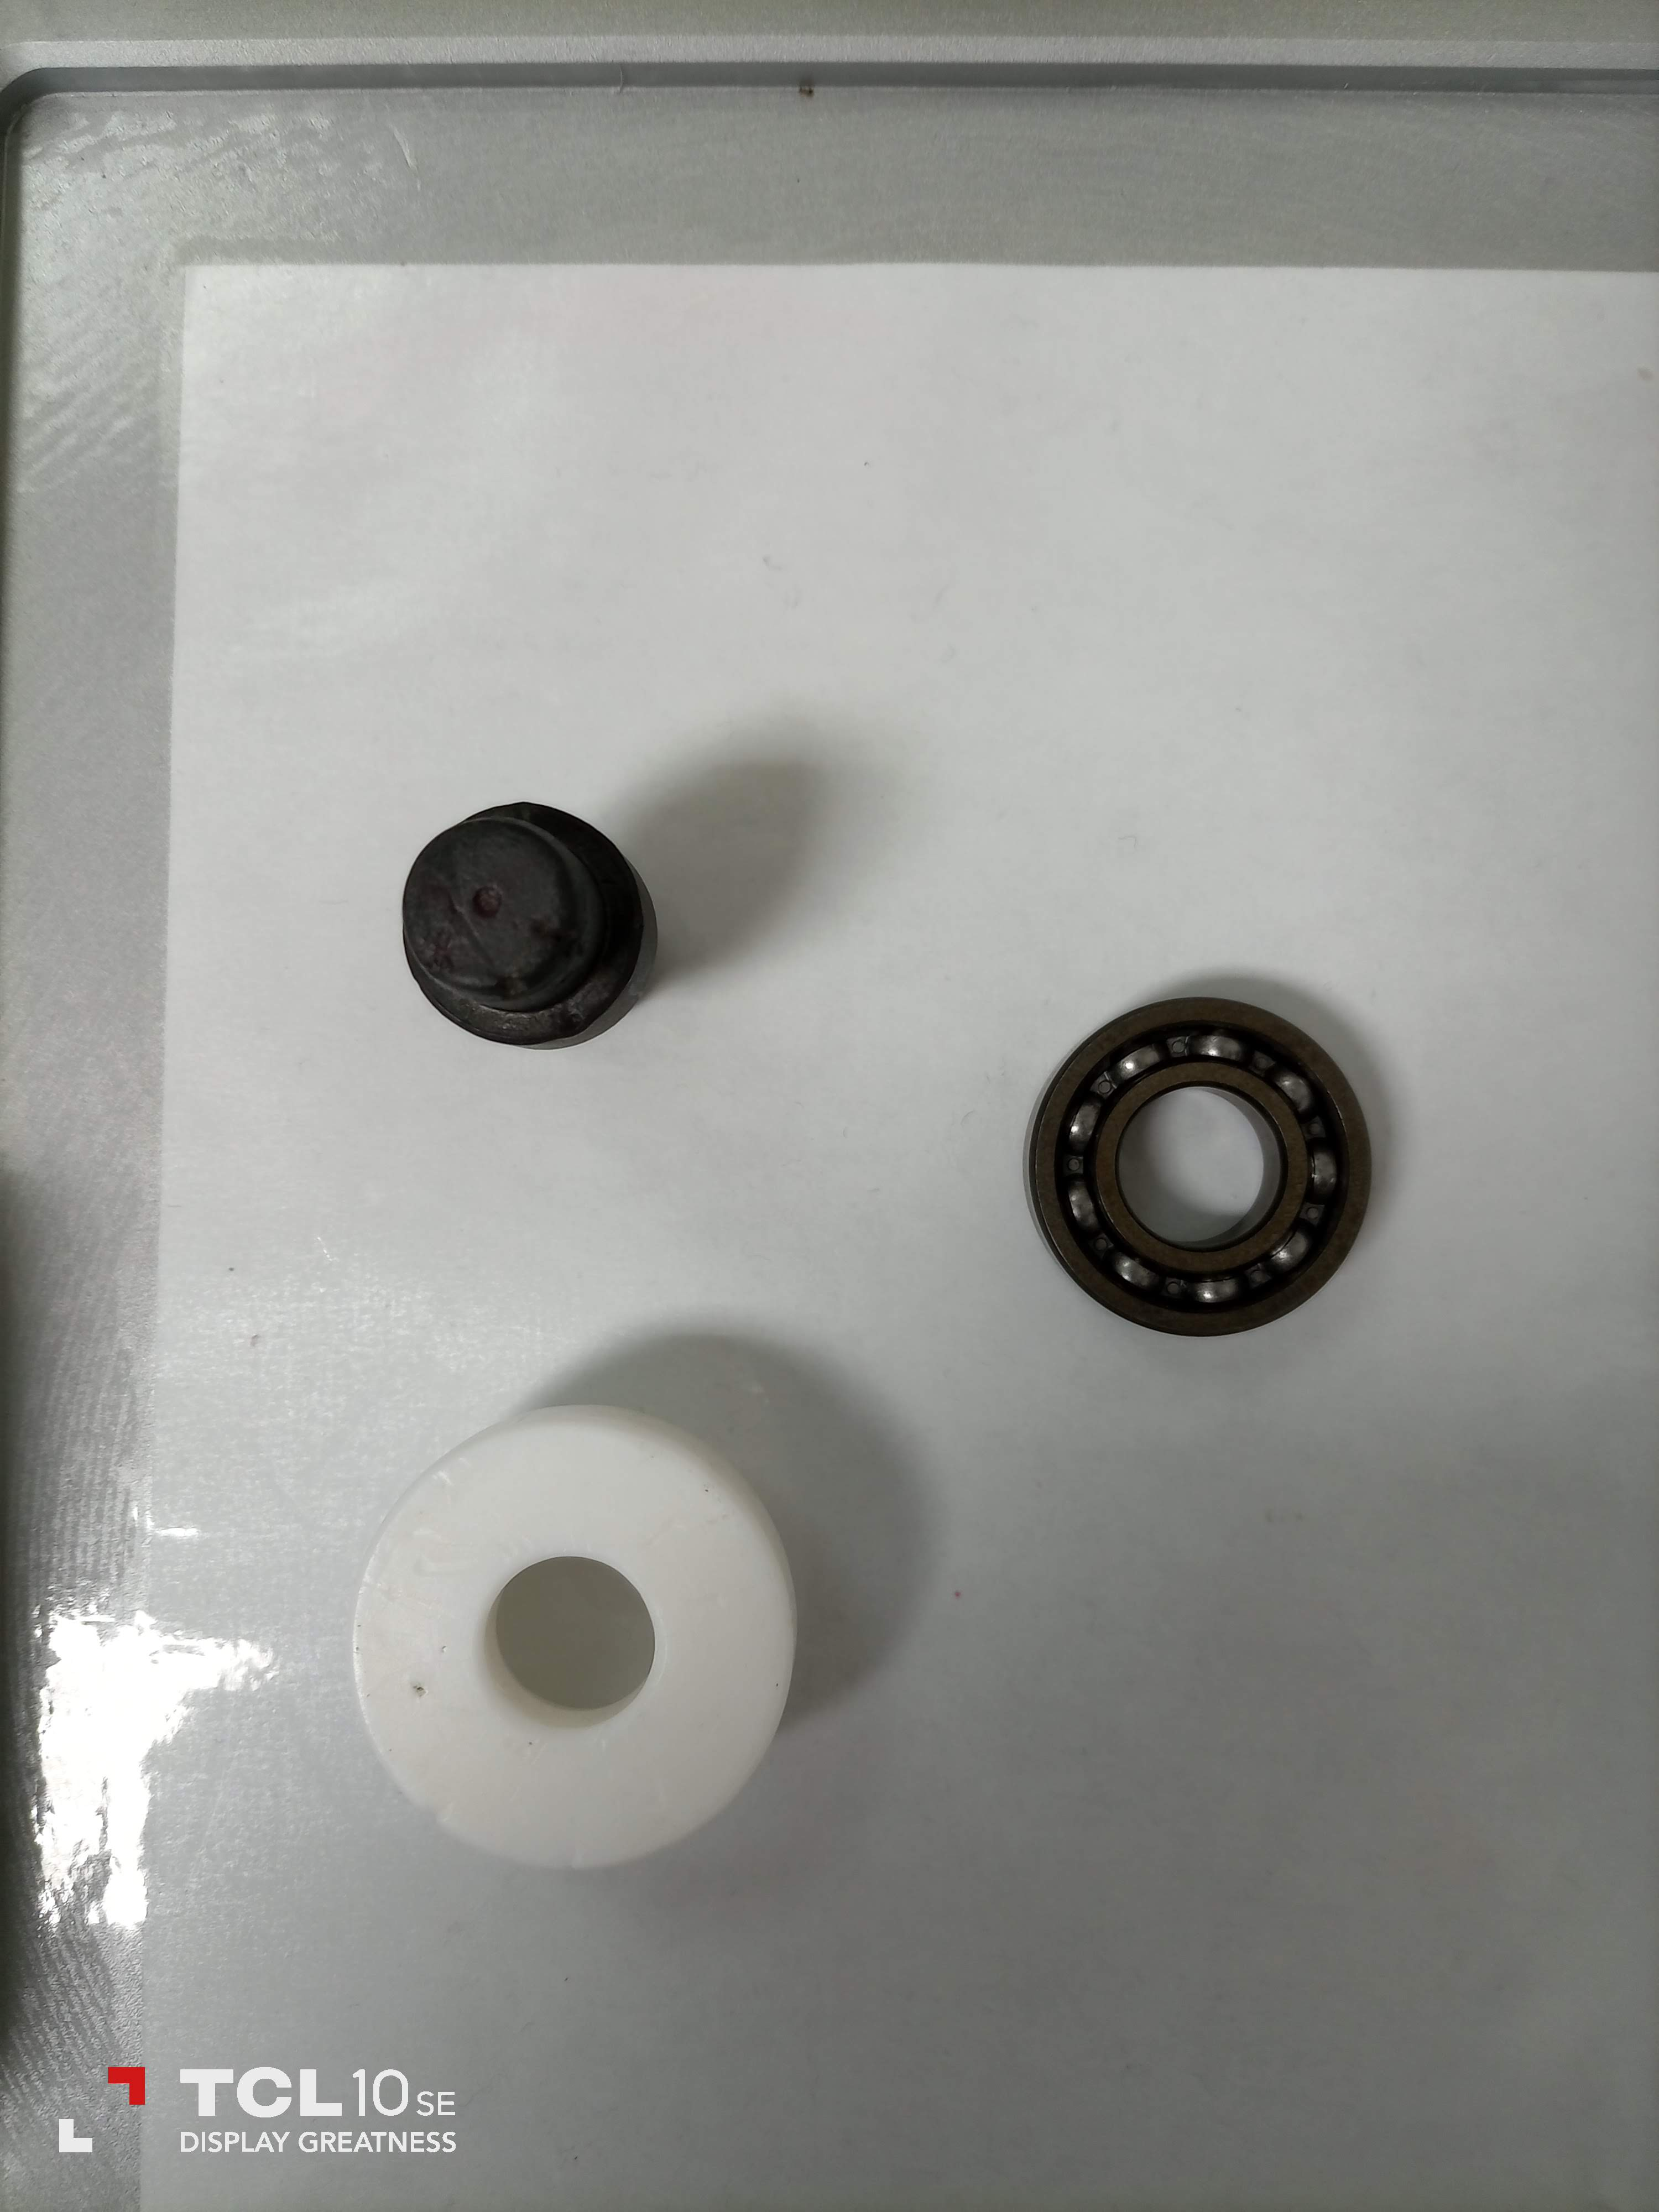Ardatza: (406, 792, 667, 1057)
Roda: (992, 984, 1419, 1367)
Tapa: (343, 1404, 833, 1869)
